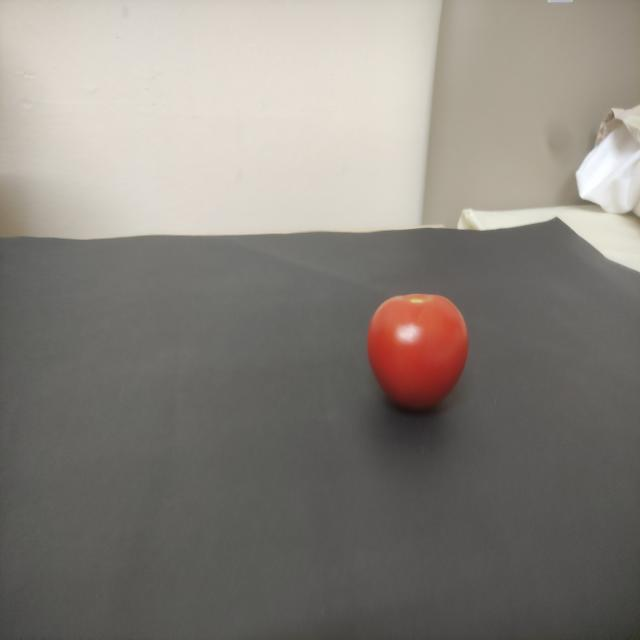kirmizi: (362, 276, 486, 414)
